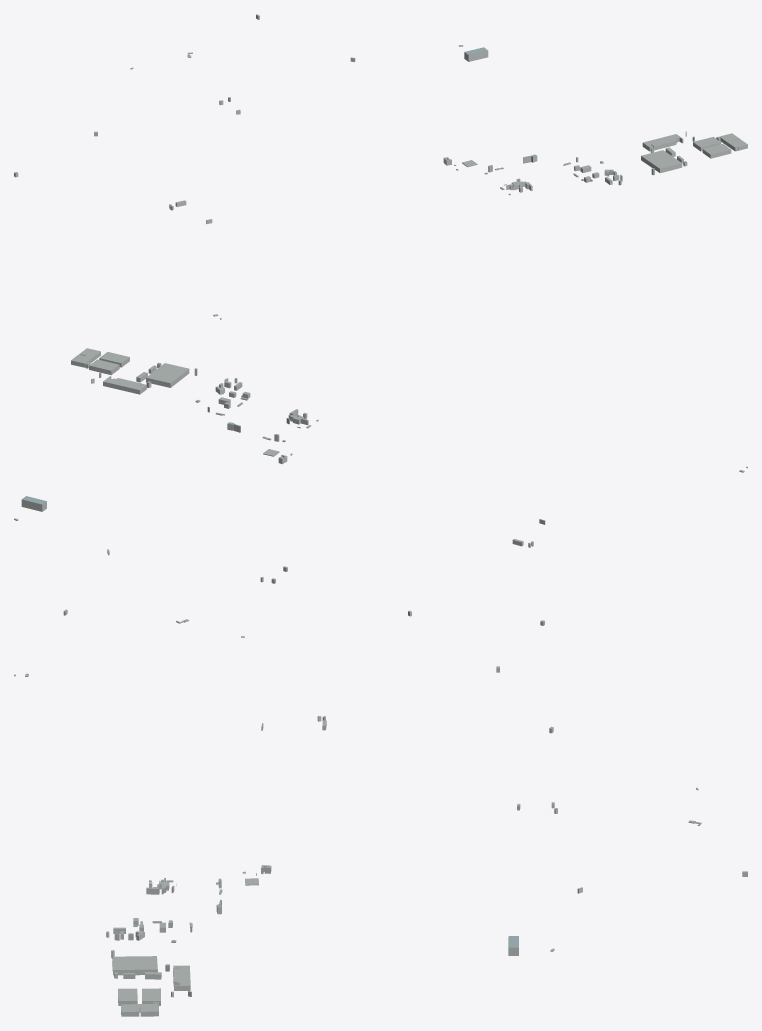
Rendered from far.glb.
3 renders of one model, top to bottom at view 1: azimuth 30°, elevation 25°; view 2: azimuth 150°, elevation 25°; view 3: azimuth 270°, elevation 25°, orthographic. The views are drawn at different scales.
Size of the model in its own units: 1939 by 22.15 by 1739.
